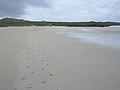human_footprint: (21, 45, 54, 89), (13, 49, 34, 89), (40, 49, 53, 86), (26, 83, 32, 89), (41, 77, 45, 83), (20, 76, 26, 79), (26, 86, 32, 89), (41, 81, 46, 84), (27, 57, 31, 60), (41, 59, 45, 62), (29, 83, 33, 86), (31, 71, 35, 74), (49, 73, 53, 76), (27, 48, 30, 51), (31, 50, 34, 53), (41, 68, 45, 70), (26, 66, 30, 68), (13, 88, 17, 90), (27, 52, 31, 54), (46, 64, 50, 66), (46, 57, 50, 59), (41, 54, 44, 56), (32, 61, 35, 63), (32, 55, 35, 57), (44, 52, 46, 54)
